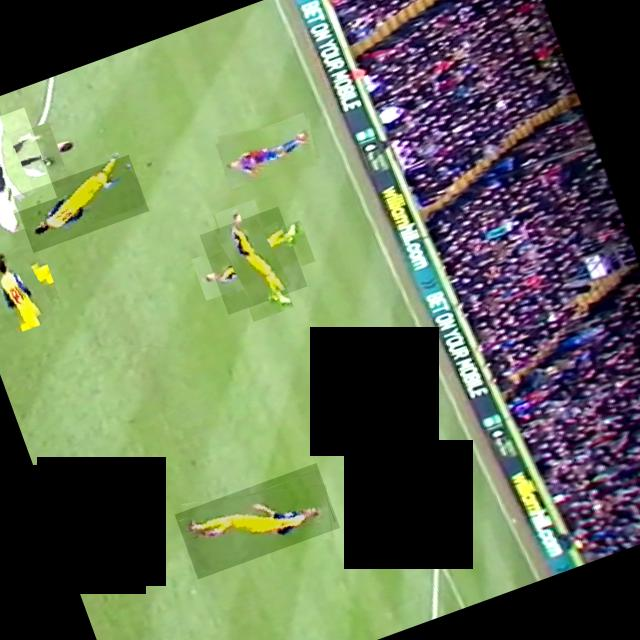referee: (0, 107, 56, 230)
soccer-player: (174, 464, 339, 580), (13, 155, 148, 253), (198, 207, 306, 316), (212, 109, 322, 193), (0, 245, 58, 337)
